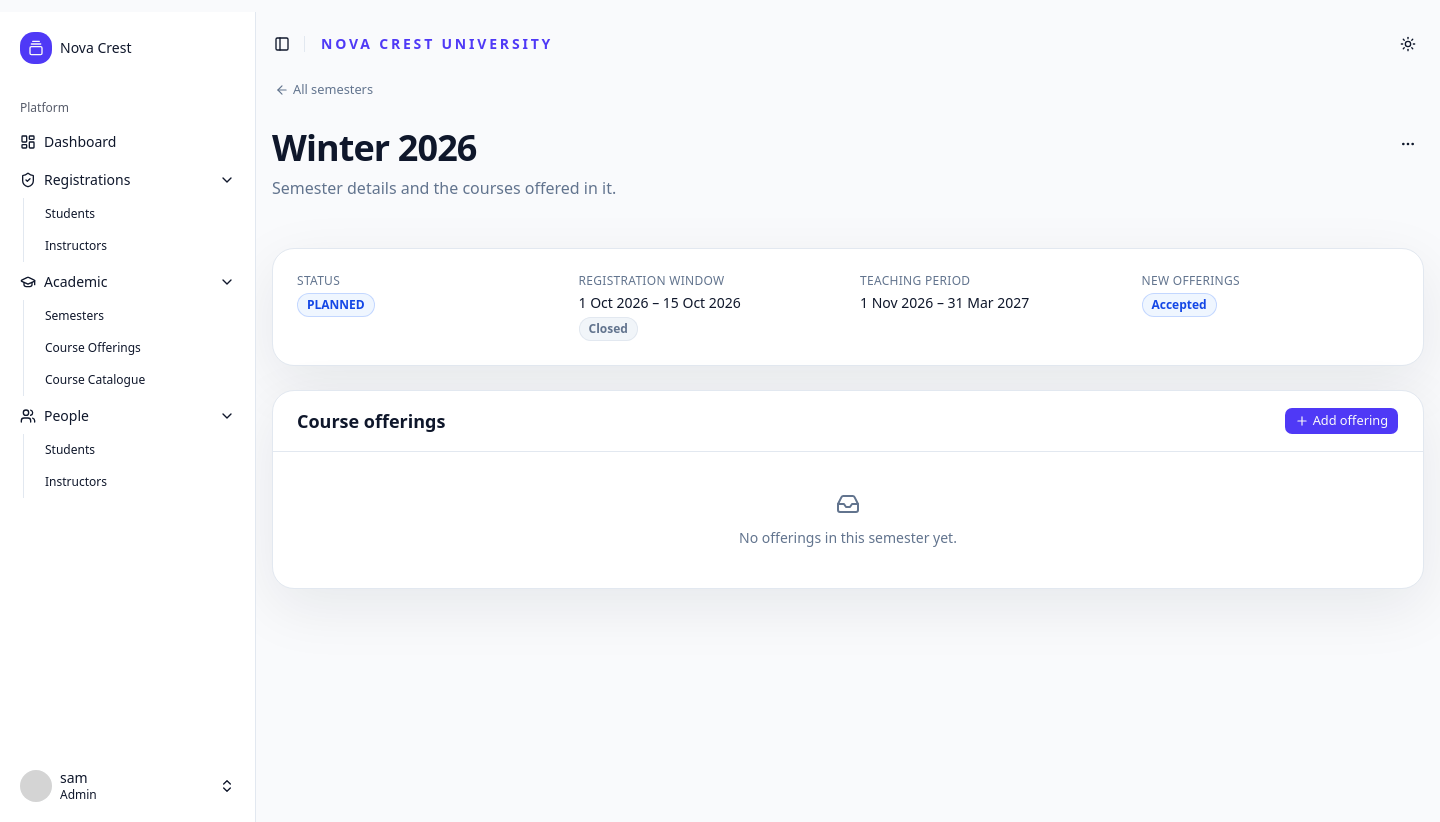
Scenario: SemesterDetail › runs a semester action from the header
Click the button named "Actions for Winter 2026" in the row of "Winter 2026": coordinates (1408, 144) [1392,128,1424,160]
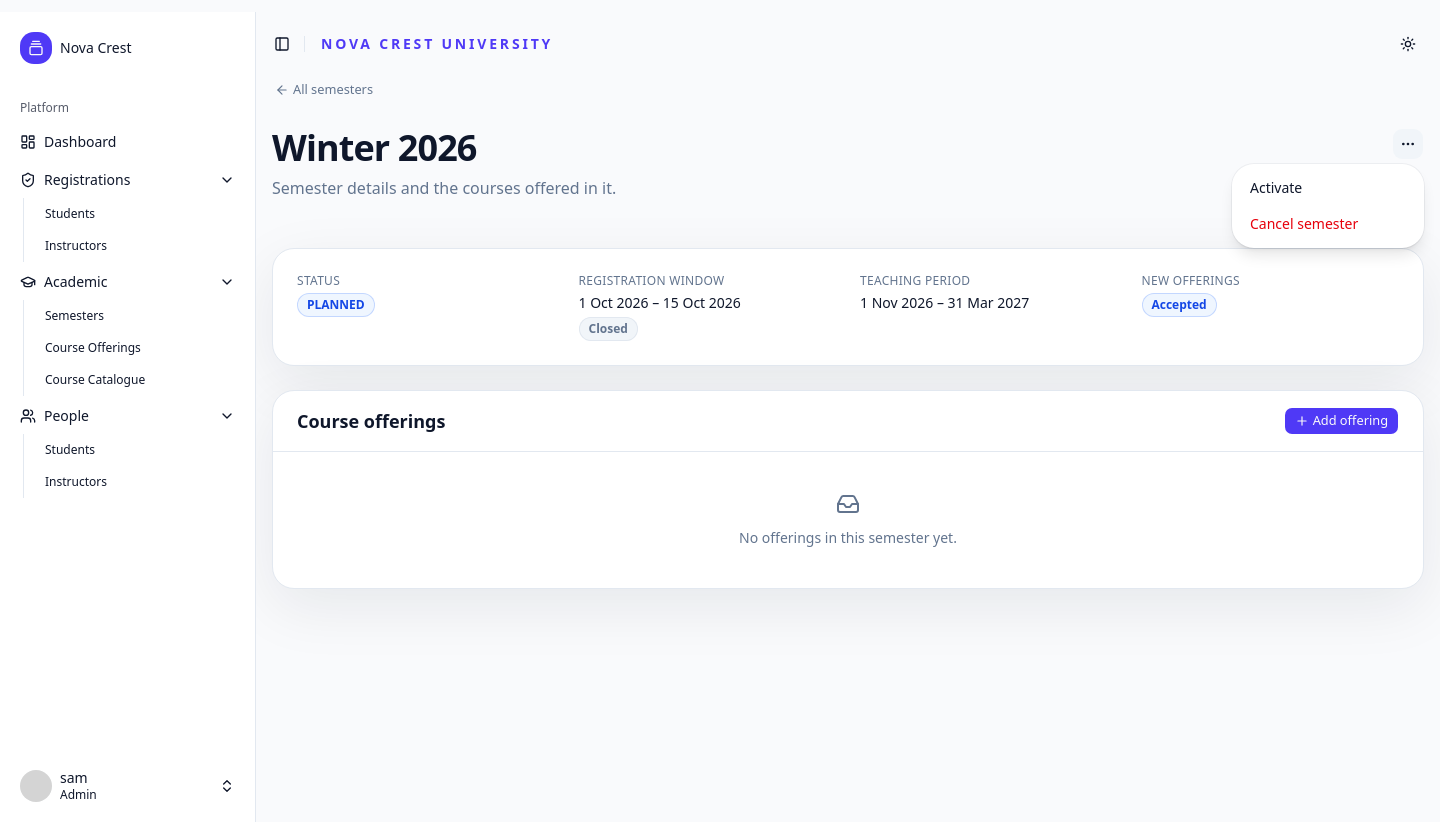
Click the menu item "Activate": coordinates (1276, 188) [1250,178,1302,197]
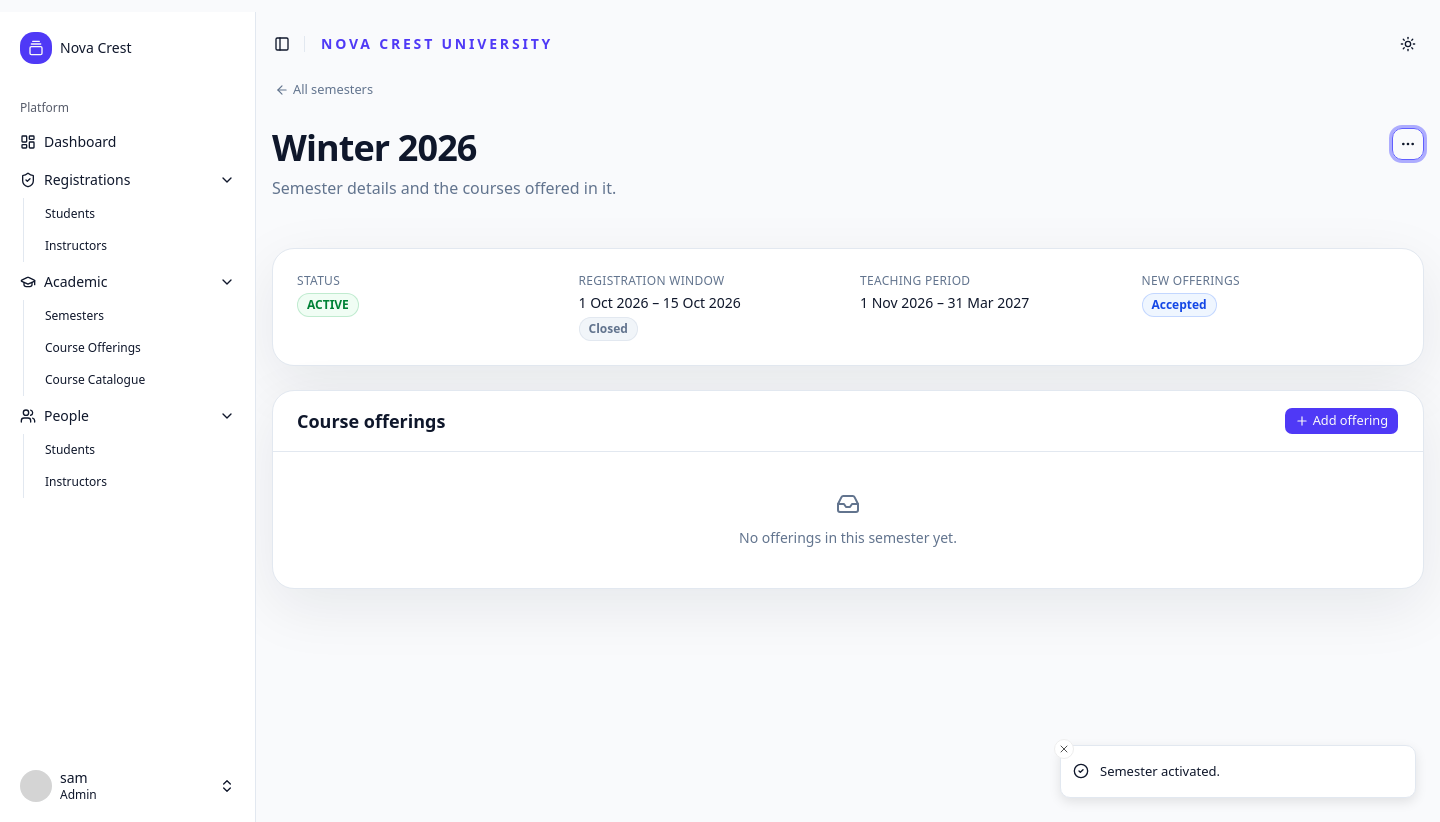
Result: the text "Semester activated." is shown at [1100,762,1220,781]
Result: the text "ACTIVE" is shown at [297,293,359,317]
